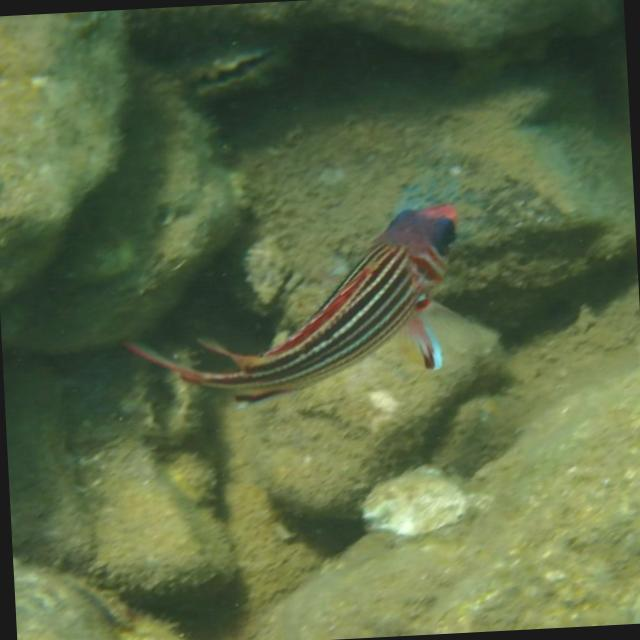Asker Baligi: (104, 190, 481, 428)
